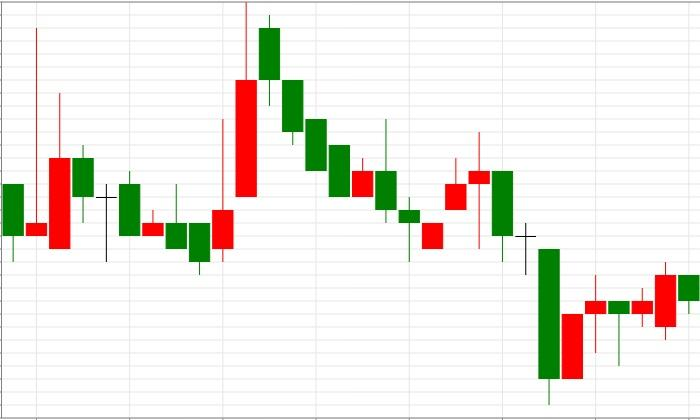hanging_man_fall: (537, 248, 631, 405)
three_white_soldiers_rise: (258, 14, 491, 262)
